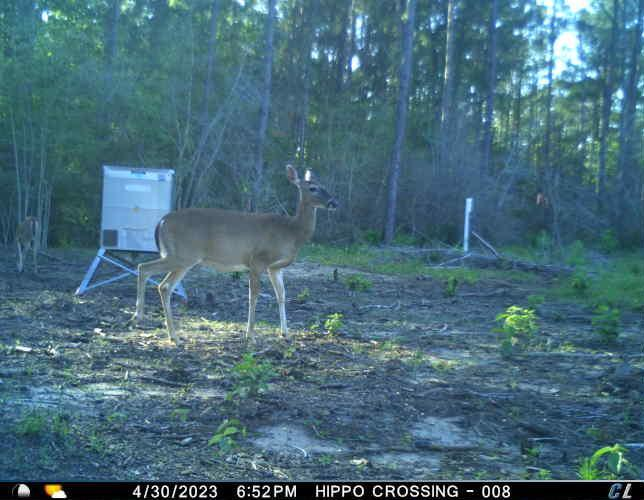Deer: (127, 161, 342, 351)
